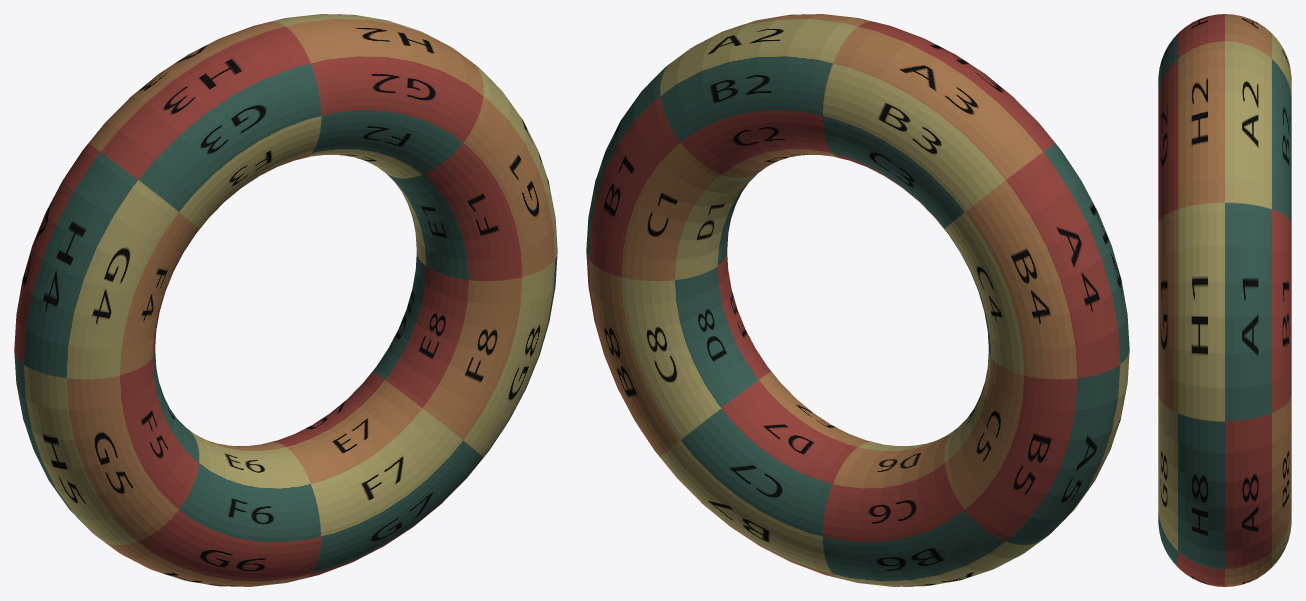
File: texture_torus_R16_r16.glb
The picture shows the model from 3 angles, left to right: view 1: azimuth 30°, elevation 25°; view 2: azimuth 150°, elevation 25°; view 3: azimuth 270°, elevation 25°; orthographic projection. The views are drawn at different scales.
Visible parts, largest first — view 1: world; view 2: world; view 3: world.
Boxes of the visible parts, x1,y1,x2,y2 form: world: (14, 14, 557, 586); world: (586, 14, 1129, 586); world: (1158, 14, 1291, 586).
Size of the model in its own units: 26.93 by 26.88 by 6.25.
Materials: 1 (1 with a texture image).
